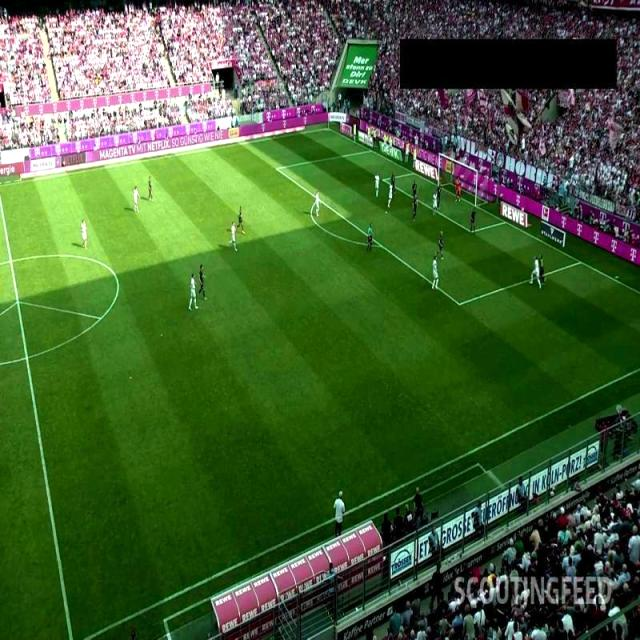bigarea_bottom_inner: (454, 300, 464, 310)
bigarea_bottom_outter: (576, 256, 586, 268)
bigarea_top_inner: (271, 163, 282, 174)
bigarea_top_outter: (366, 145, 377, 156)
bottom_arc_area_intersection: (374, 239, 386, 250)
corner: (322, 123, 333, 134)
halfcircle_bottom: (21, 352, 32, 363)
halfcircle_top: (6, 256, 16, 266)
smallarea_bottom_inner: (467, 226, 478, 238)
smallarea_bottom_outter: (500, 216, 510, 227)
smallarea_top_inner: (379, 173, 390, 184)
smallarea_top_outter: (408, 166, 418, 178)
top_arc_area_intersection: (313, 194, 324, 206)
